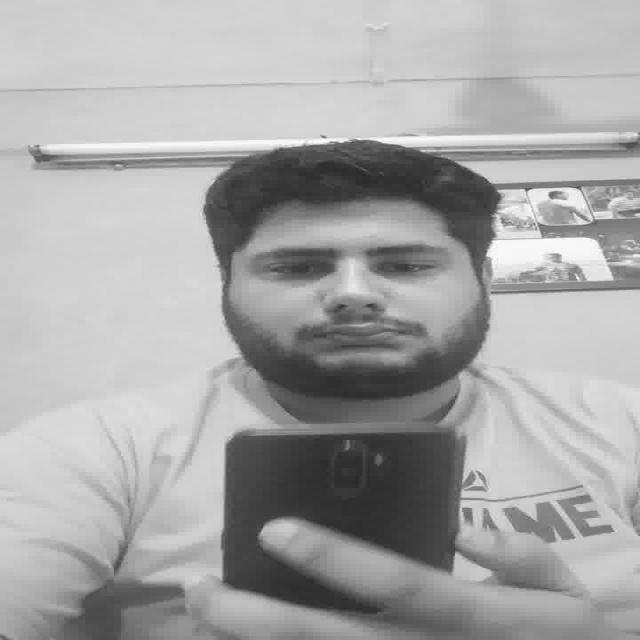fake: (210, 412, 460, 606)
real: (226, 192, 493, 404)
